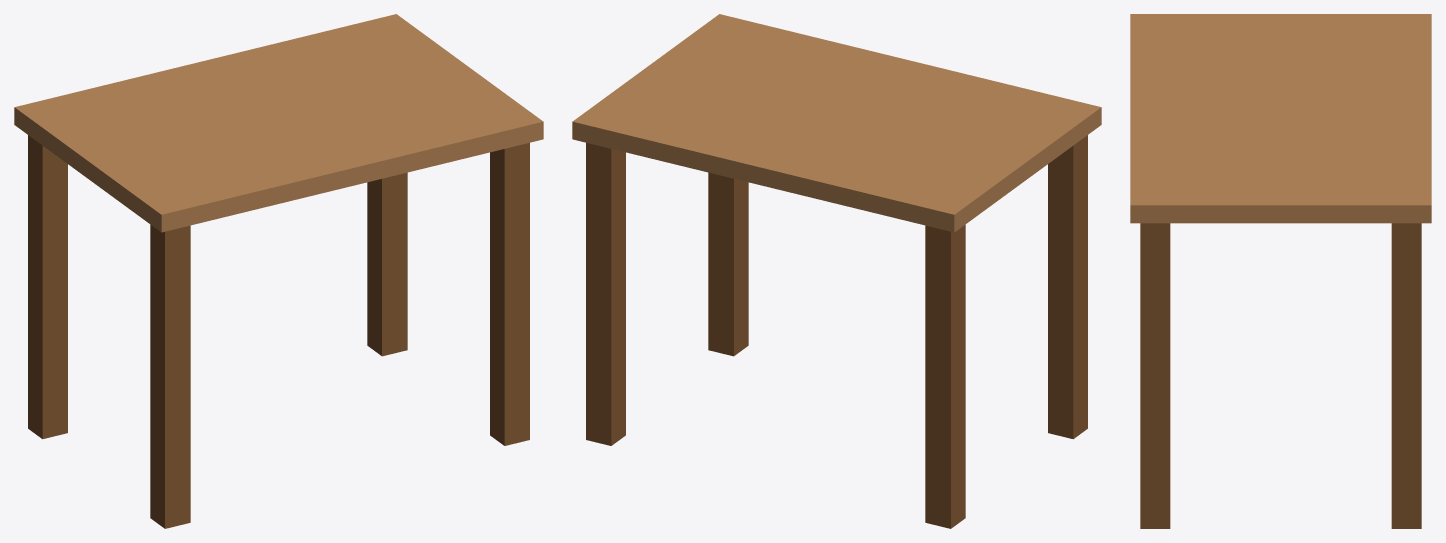
File: table.glb
3 views of the same model, side by side, from view 1: azimuth 30°, elevation 25°; view 2: azimuth 150°, elevation 25°; view 3: azimuth 270°, elevation 25° (orthographic). The views are drawn at different scales.
Visible parts, largest first — view 1: table; view 2: table; view 3: table.
Part boxes in pixels (bbox=[...]): table: bbox=[14, 14, 543, 528]; table: bbox=[572, 14, 1101, 528]; table: bbox=[1130, 14, 1431, 528].
Bounding box in the file's own units: 0.9 × 0.72 × 0.6.
1 material, 1 textured.
